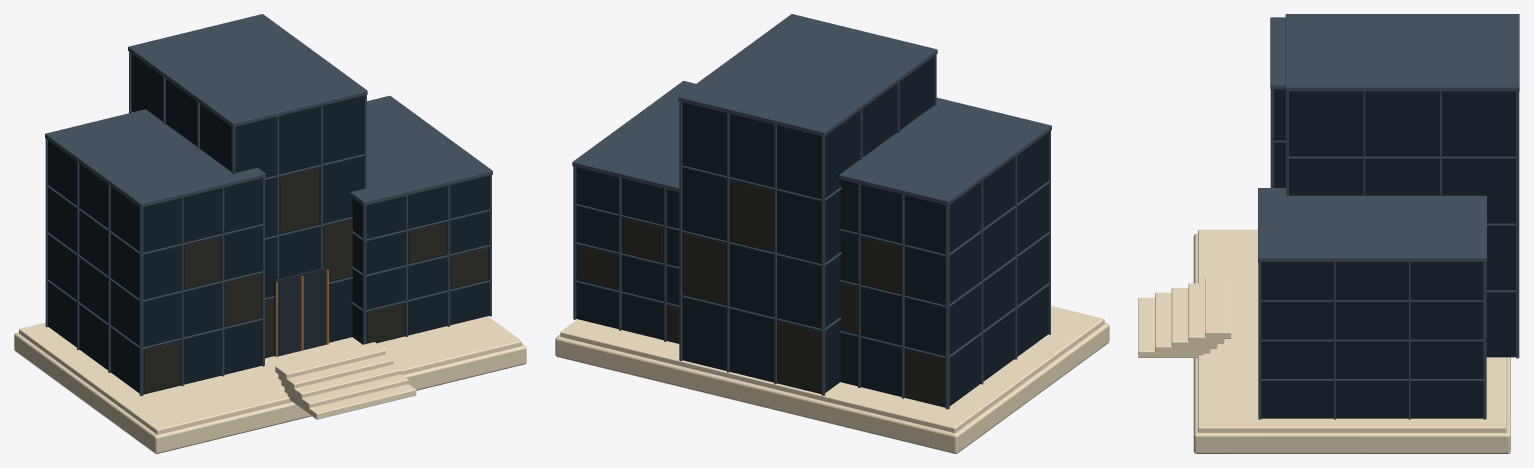
File: ha-long.glb
3 renders of one model, left to right at view 1: azimuth 30°, elevation 25°; view 2: azimuth 150°, elevation 25°; view 3: azimuth 270°, elevation 25°, orthographic. The views are drawn at different scales.
Parts seen in each view (by area): view 1: LANDMARK_ha-long.001; view 2: LANDMARK_ha-long.001; view 3: LANDMARK_ha-long.001.
Part boxes in pixels (x1=…): LANDMARK_ha-long.001: x1=14, y1=14, x2=526, y2=453; LANDMARK_ha-long.001: x1=555, y1=14, x2=1109, y2=453; LANDMARK_ha-long.001: x1=1138, y1=14, x2=1519, y2=453.
Size of the model in its own units: 1.4 by 0.9836 by 1.12.
